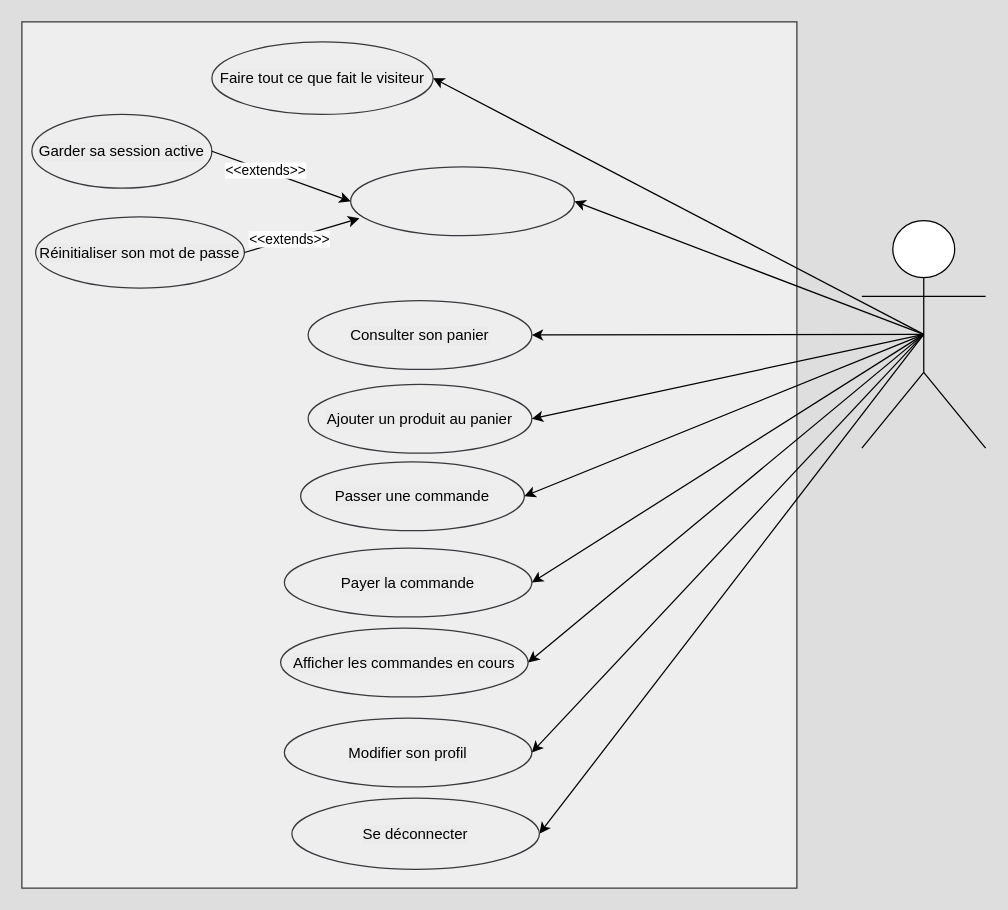
This 1008x910 diagram has some shape labels left out. Each missing label, with the centre of its shape:
"Se connecter" belongs at (461,201).
"Utilisateur" belongs at (923,333).
